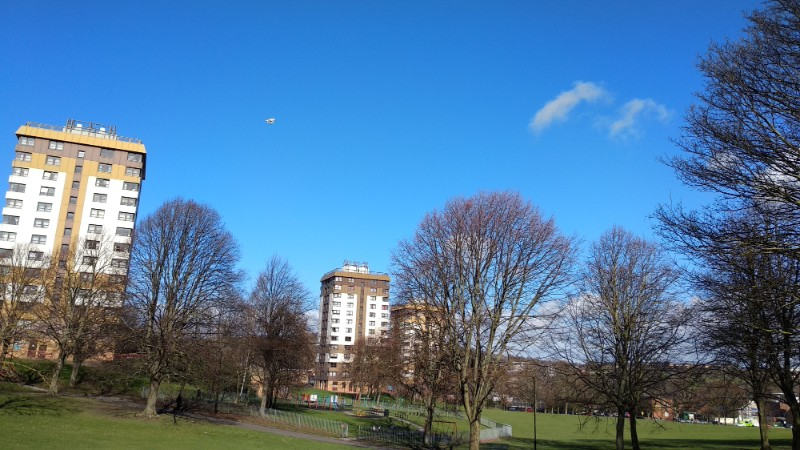drone: (266, 116, 275, 124)
